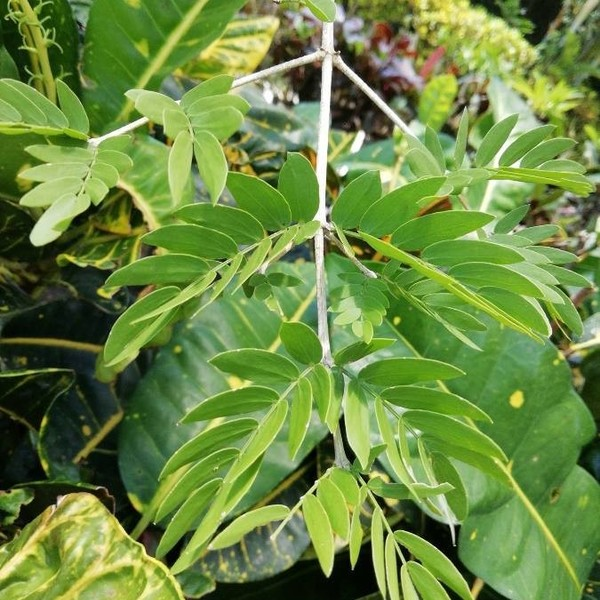obstacle: (130, 115, 504, 581), (384, 289, 586, 595), (11, 14, 222, 208)
